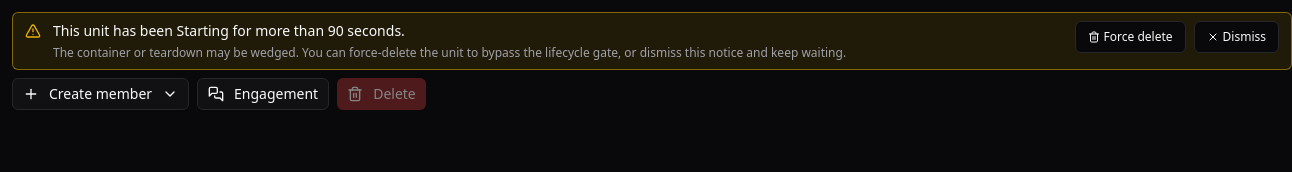
Test: UnitPaneActions — stuck-transient advisory (#1145) › Dismiss hides the advisory for the current status
Check: the message with test id "unit-stuck-advisory" is shown, box [12, 12, 1291, 70]
Click the button with test id "unit-stuck-dismiss" at (1236, 37), box [1194, 21, 1279, 53]
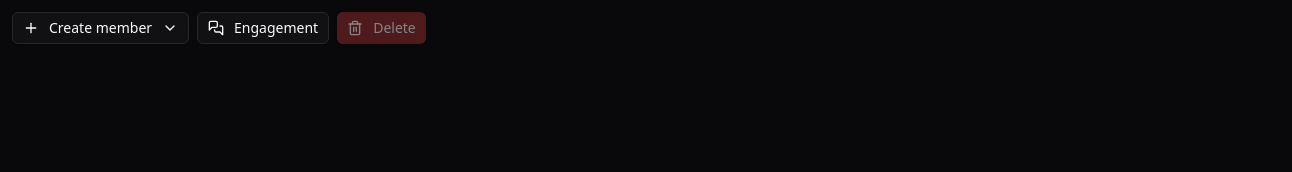
Check: the message with test id "unit-stuck-advisory" is gone
